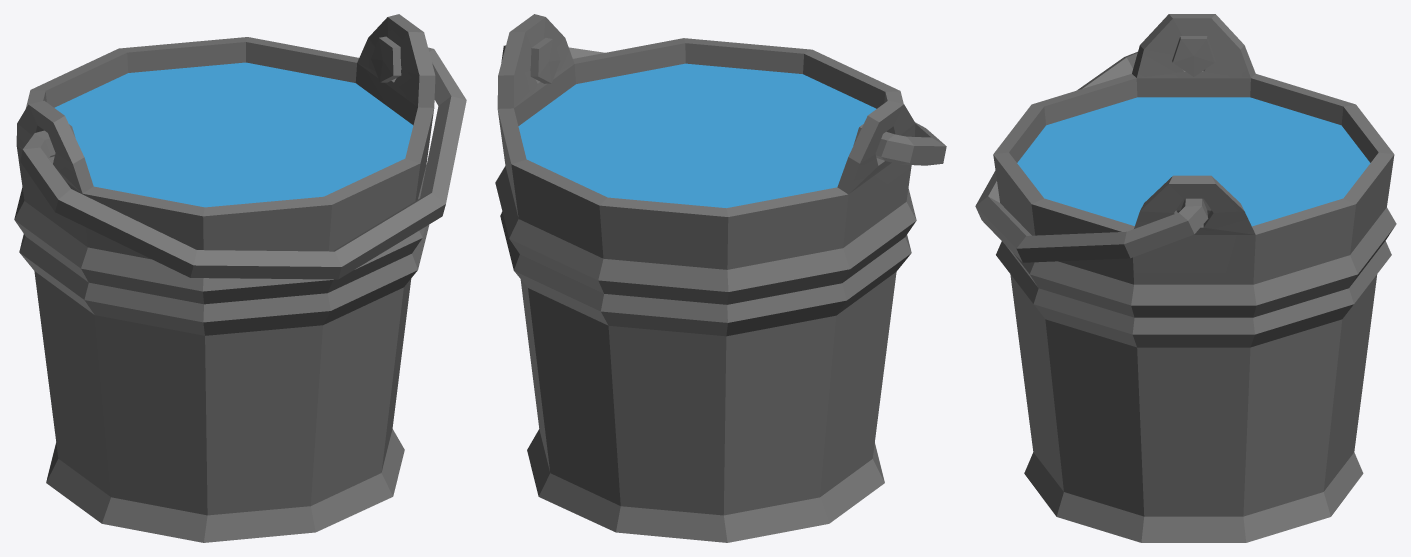
File: bucket.glb
3 renders of one model, left to right at view 1: azimuth 30°, elevation 25°; view 2: azimuth 150°, elevation 25°; view 3: azimuth 270°, elevation 25°, orthographic. The views are drawn at different scales.
Parts seen in each view (by area): view 1: Container, Fluid; view 2: Container, Fluid; view 3: Container, Fluid.
Boxes of the visible parts, left/top/right/bottom form: Container: left=14, top=14, right=466, bottom=542; Fluid: left=54, top=62, right=413, bottom=207; Container: left=495, top=14, right=946, bottom=542; Fluid: left=518, top=63, right=876, bottom=208; Container: left=975, top=14, right=1396, bottom=542; Fluid: left=1017, top=97, right=1370, bottom=226.
Size of the model in its own units: 0.167 by 0.1554 by 0.1577.
